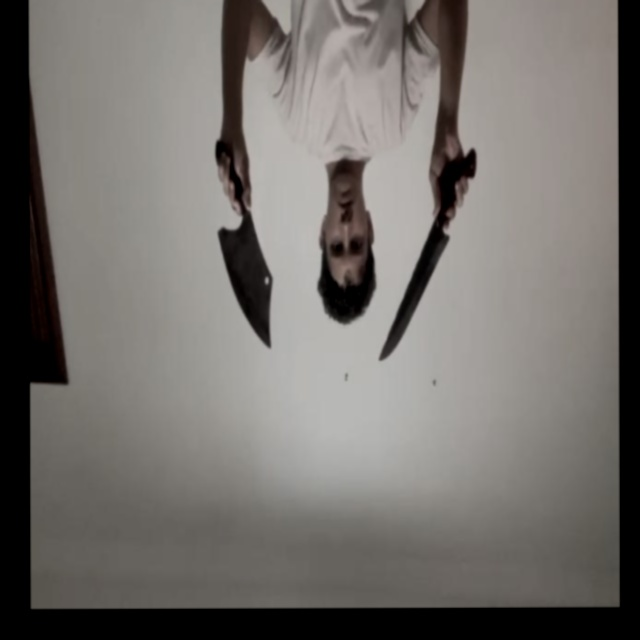Sharp-Object: (378, 234, 448, 363), (219, 226, 274, 348)
